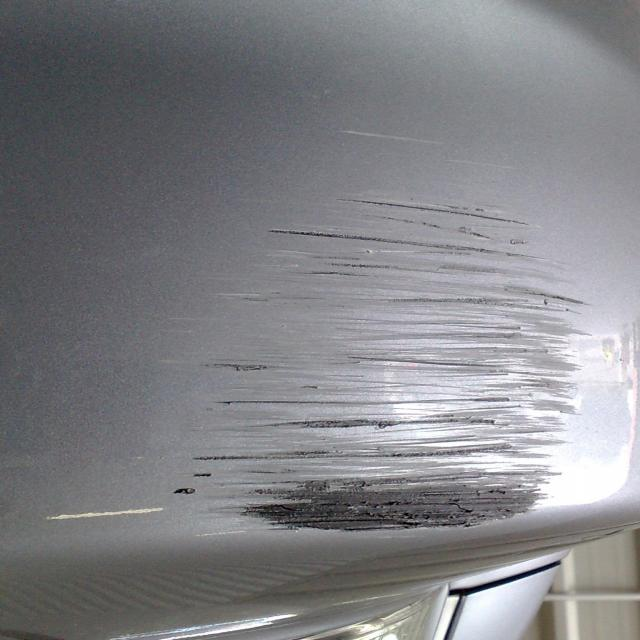scratch: (162, 190, 600, 530)
